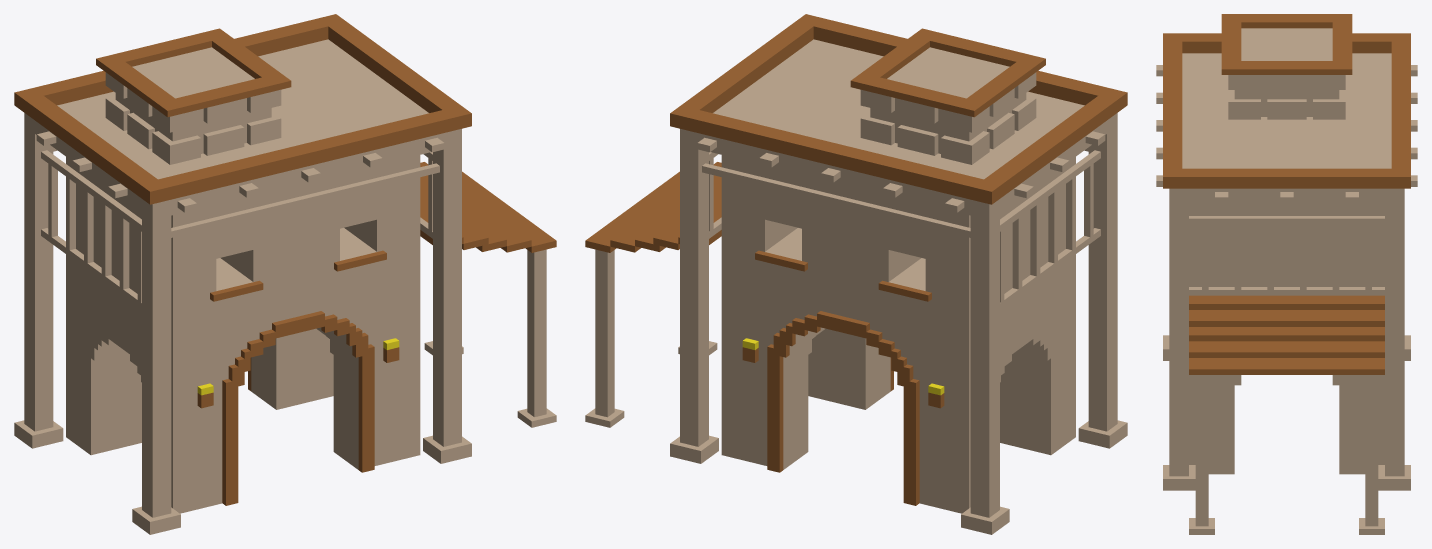
The model's file is Background_B_house_02.FBX.
3 views of the same model, side by side, from view 1: azimuth 30°, elevation 25°; view 2: azimuth 150°, elevation 25°; view 3: azimuth 270°, elevation 25° (orthographic). The views are drawn at different scales.
Parts seen in each view (by area): view 1: untitled-9; view 2: untitled-9; view 3: untitled-9.
Part boxes in pixels (<box>): untitled-9: <box>14,14,556,534</box>; untitled-9: <box>585,14,1127,534</box>; untitled-9: <box>1156,14,1417,534</box>.
Size of the model in its own units: 6.9 by 6 by 4.
Materials: 1 (1 with a texture image).
